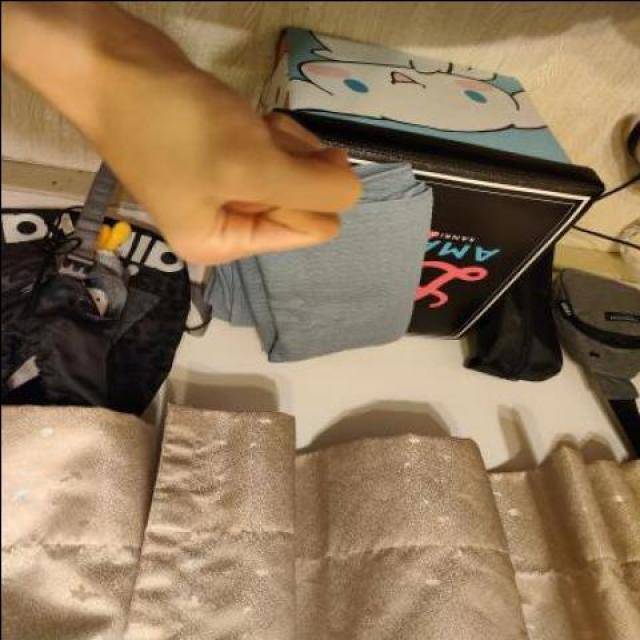Closed Hand: (101, 83, 369, 270)
